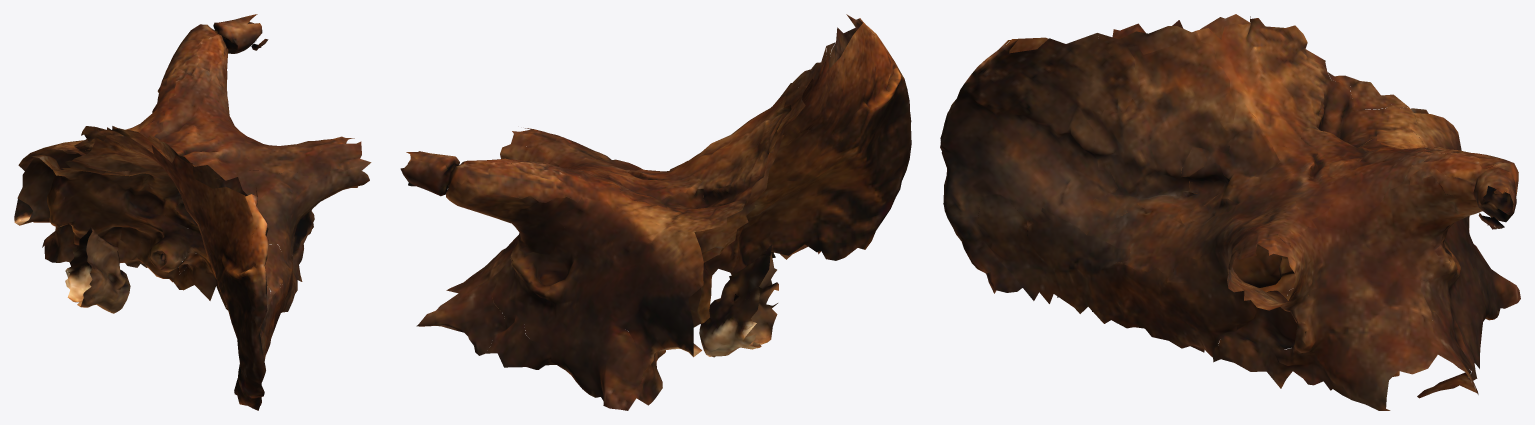
File: Triceratops_Frill.fbx
3 views of the same model, side by side, from view 1: azimuth 30°, elevation 25°; view 2: azimuth 150°, elevation 25°; view 3: azimuth 270°, elevation 25° (orthographic). The views are drawn at different scales.
Parts seen in each view (by area): view 1: Triceratops_Frill; view 2: Triceratops_Frill; view 3: Triceratops_Frill.
Part boxes in pixels (left/top/right/bottom): Triceratops_Frill: left=14, top=14, right=371, bottom=410; Triceratops_Frill: left=400, top=14, right=911, bottom=410; Triceratops_Frill: left=940, top=14, right=1520, bottom=410.
Bounding box in the file's own units: 0.1998 × 0.1598 × 0.3242.
Materials: 1 (1 with a texture image).
